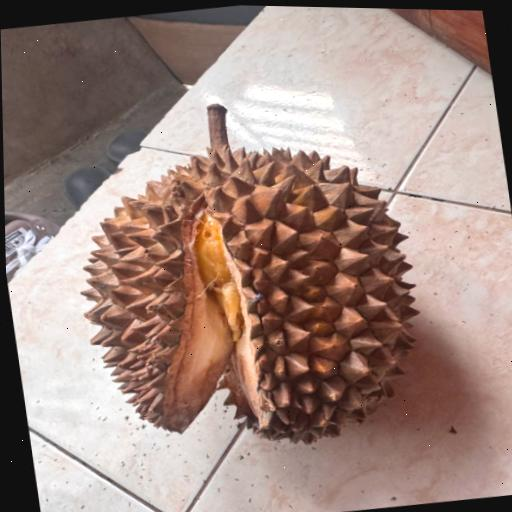rot: (39, 65, 486, 474)
